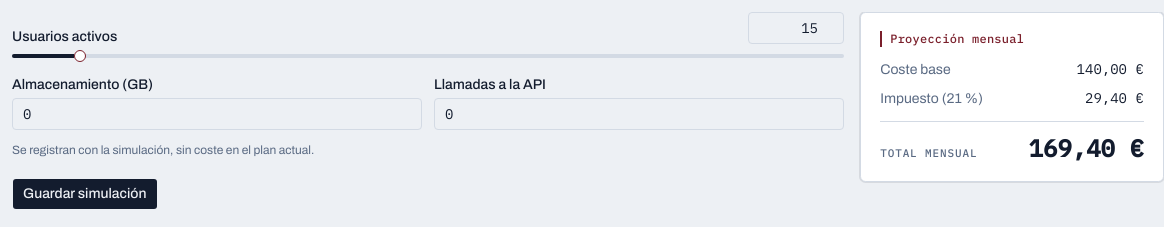
SimulationForm — el backend manda sobre la proyección (ADR-006) › avisa cuando el total del backend NO coincide con el proyectado
Expected: the text "Importe ajustado al cálculo del backend." is not shown
What coordinates should you click on to do the following:
click the button "Guardar simulación"
I would click on:
 (85, 194)
Its box is [12,178,158,210].
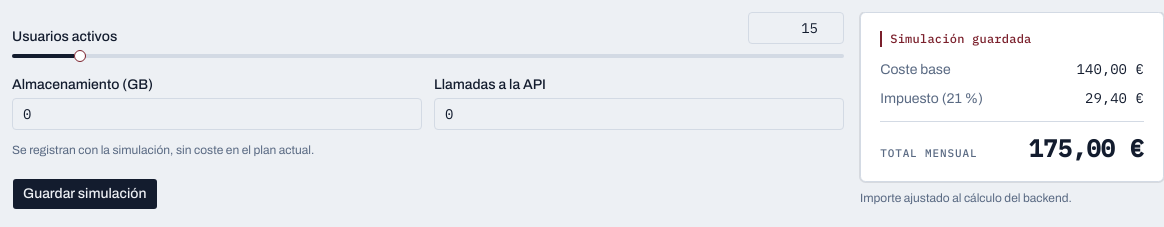
Expected: the text "Simulación guardada" is shown, [880,31,1144,47]
Expected: the text "175,00 €" is shown, [1029,132,1144,164]
Expected: the text "169,40 €" is gone
